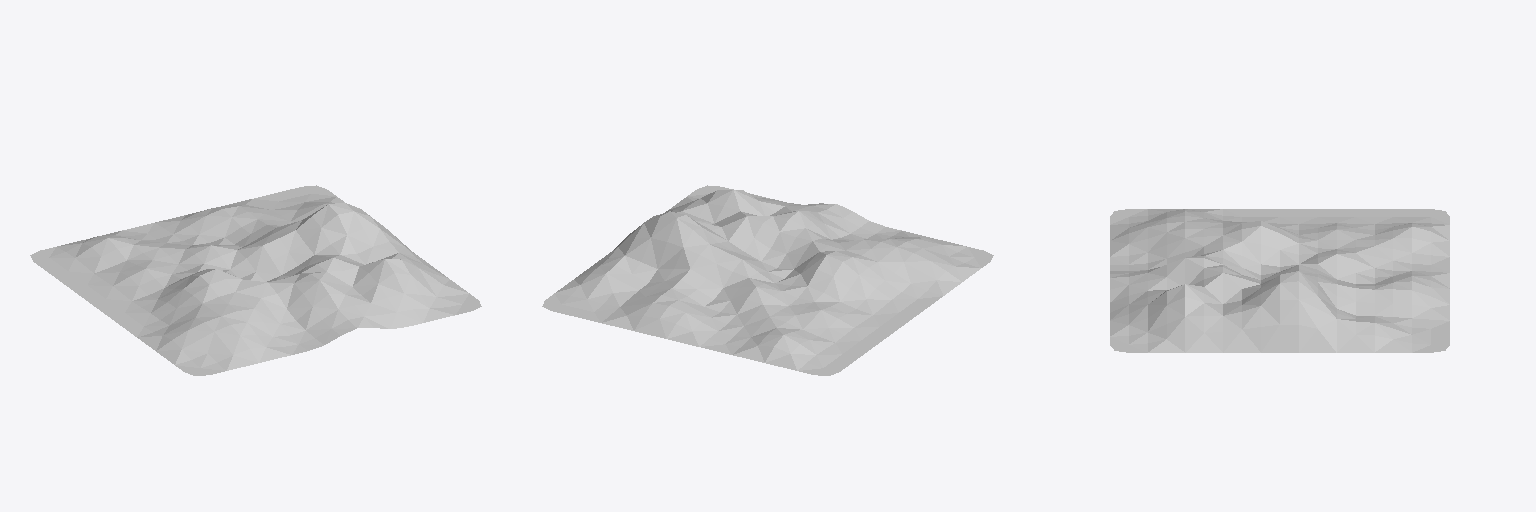
The model's file is terrain.obj.
3 views of the same model, side by side, from view 1: azimuth 30°, elevation 25°; view 2: azimuth 150°, elevation 25°; view 3: azimuth 270°, elevation 25° (orthographic).
Parts seen in each view (by area): view 1: Grid_Grid.001; view 2: Grid_Grid.001; view 3: Grid_Grid.001.
Boxes of the visible parts, x1=… form: Grid_Grid.001: x1=30, y1=185, x2=481, y2=375; Grid_Grid.001: x1=542, y1=185, x2=993, y2=375; Grid_Grid.001: x1=1110, y1=209, x2=1449, y2=352.
Size of the model in its own units: 2 by 0.3233 by 2.